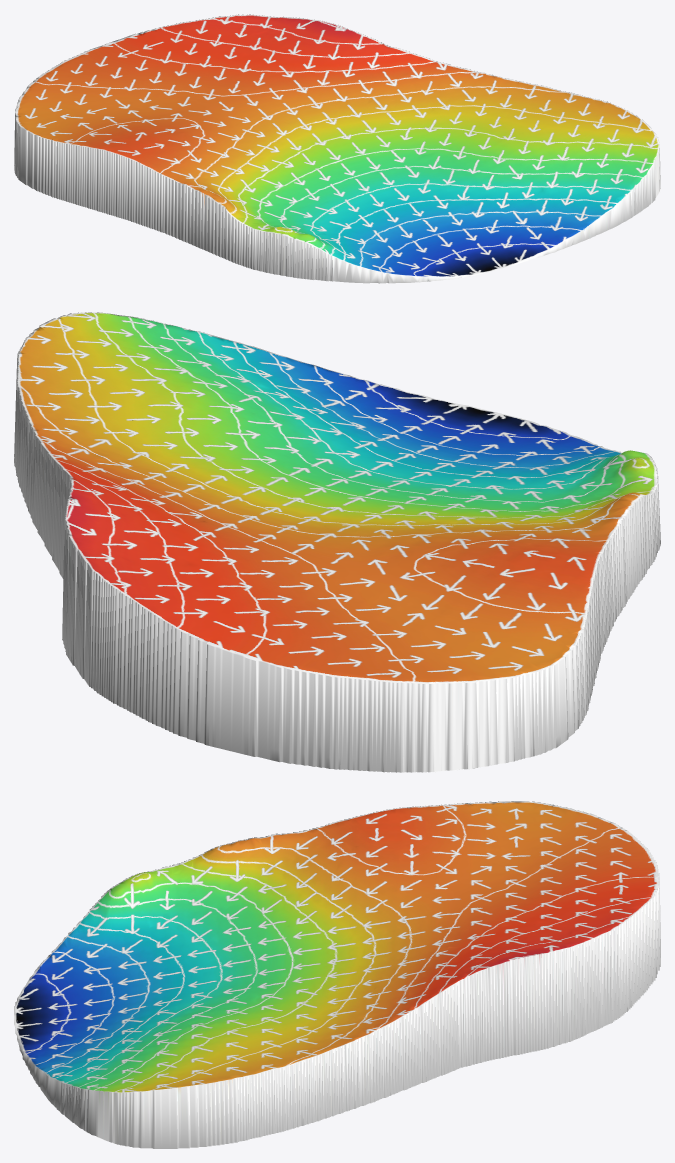
3 views of the same model, one above another, from view 1: azimuth 30°, elevation 25°; view 2: azimuth 150°, elevation 25°; view 3: azimuth 270°, elevation 25° (orthographic). The views are drawn at different scales.
Parts seen in each view (by area): view 1: BYRST; view 2: BYRST; view 3: BYRST.
Boxes of the visible parts, x1,y1,x2,y2 form: BYRST: (14,14,660,283); BYRST: (14,312,660,772); BYRST: (14,801,660,1148).
Size of the model in its own units: 1.39 by 0.2175 by 1.34.
1 material, 1 textured.
